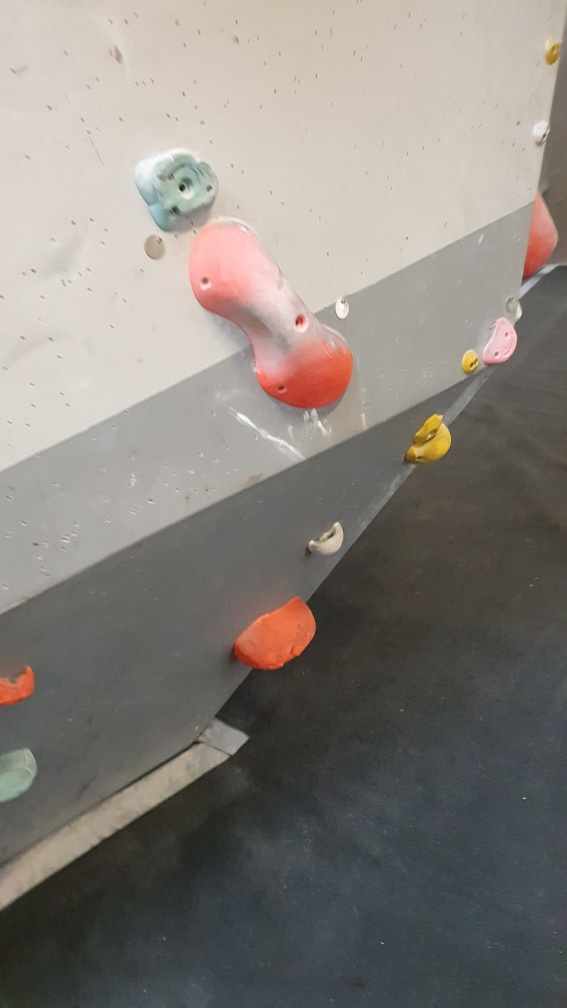Pinch: (186, 212, 356, 411)
